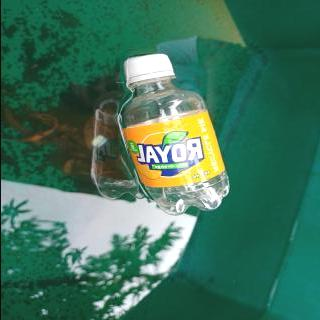bottle: (116, 51, 232, 218)
